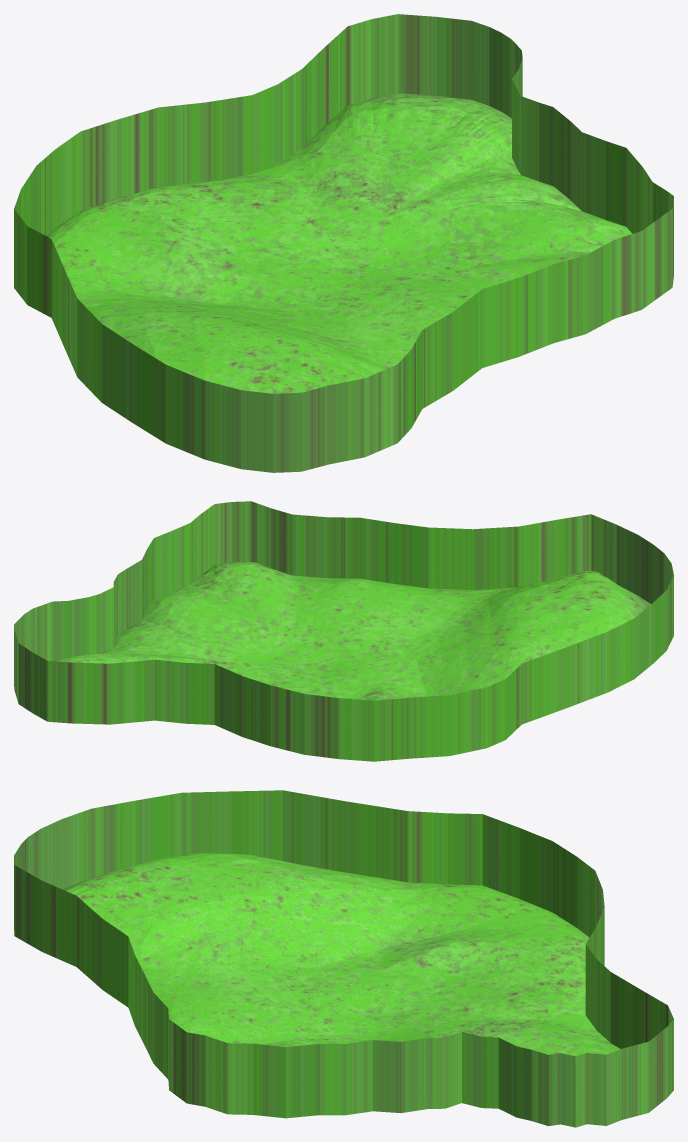
The model's file is Zone 1.obj.
3 views of the same model, one above another, from view 1: azimuth 30°, elevation 25°; view 2: azimuth 150°, elevation 25°; view 3: azimuth 270°, elevation 25° (orthographic). The views are drawn at different scales.
Parts seen in each view (by area): view 1: Zone1_Plane; view 2: Zone1_Plane; view 3: Zone1_Plane.
Part boxes in pixels (left/top/right/bottom): Zone1_Plane: left=14, top=14, right=673, bottom=472; Zone1_Plane: left=14, top=501, right=673, bottom=761; Zone1_Plane: left=14, top=790, right=673, bottom=1127.
Size of the model in its own units: 13.23 by 1.95 by 13.97.
Materials: 1 (1 with a texture image).
